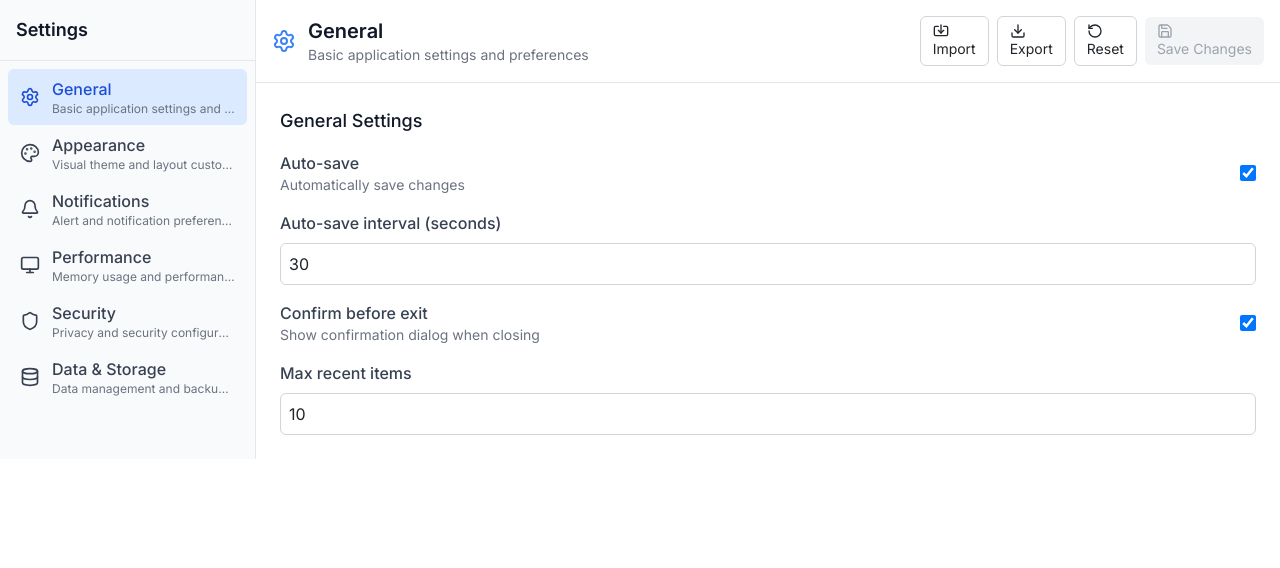
Scenario: Phase 4: Advanced Features Integration Tests › Advanced Settings › handles tab navigation
Click the text "Appearance" at (99, 145), box [52,135,145,155]
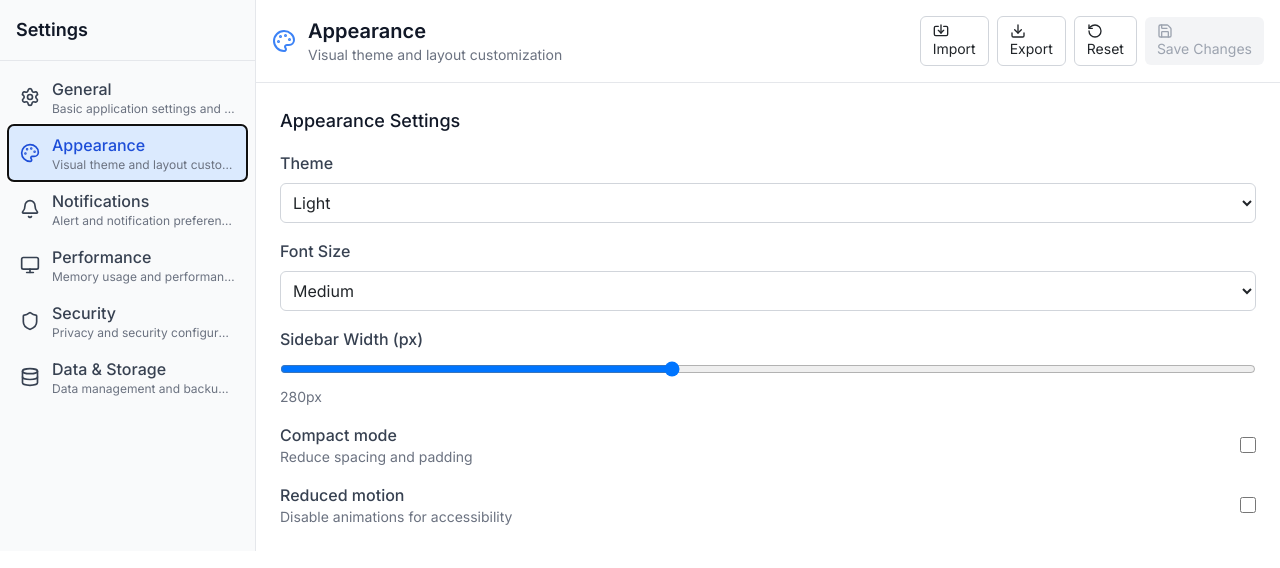
Expected: the heading "Appearance Settings" is shown, [280,110,460,131]
Expected: the text "Theme" is shown, [280,153,333,173]
